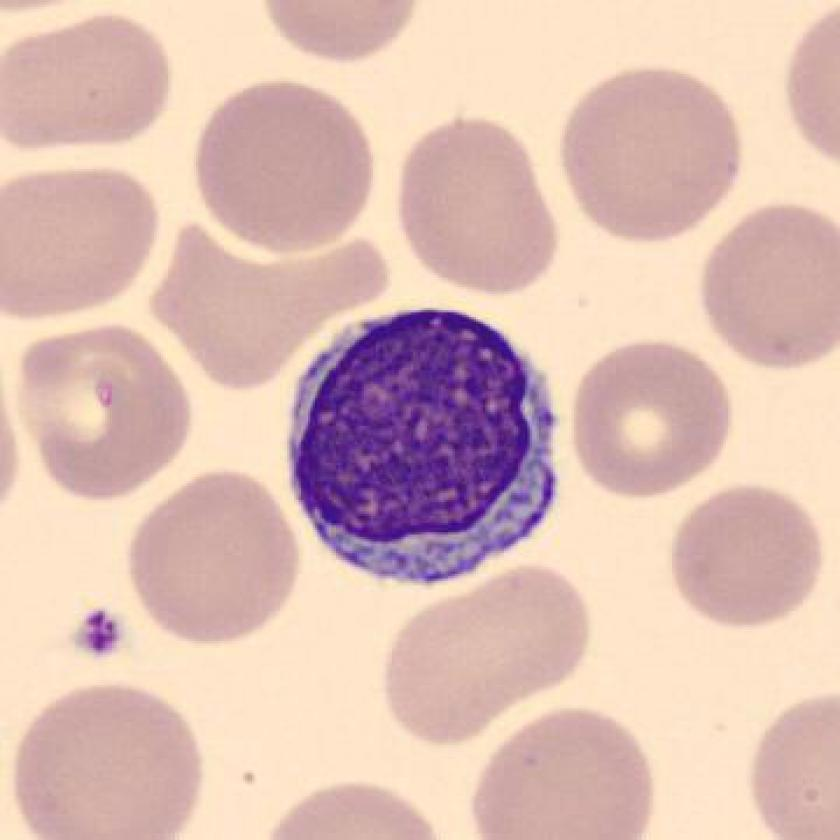lymphocyte: (272, 297, 580, 603)
